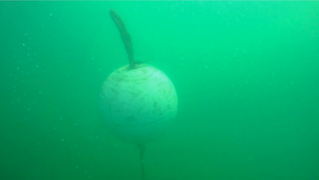buoy: (96, 63, 179, 144)
